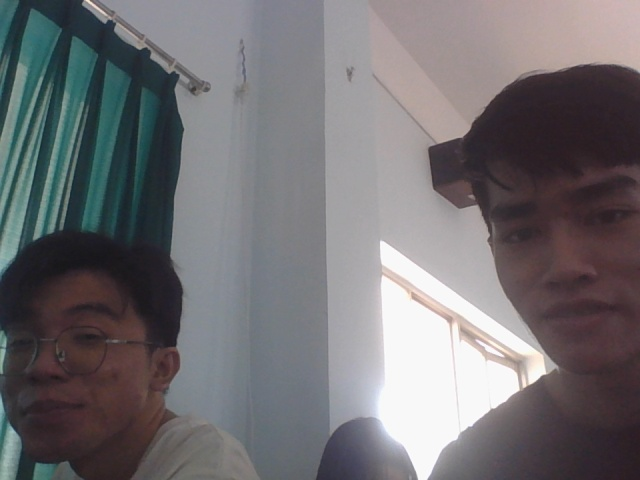real: (0, 217, 183, 477)
